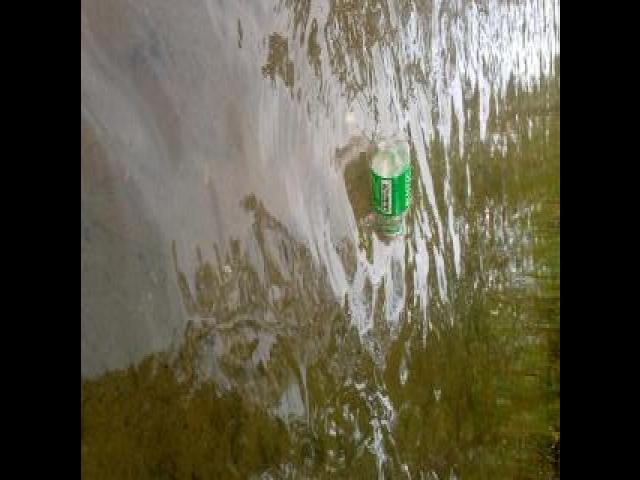Bottle: (363, 119, 412, 253)
